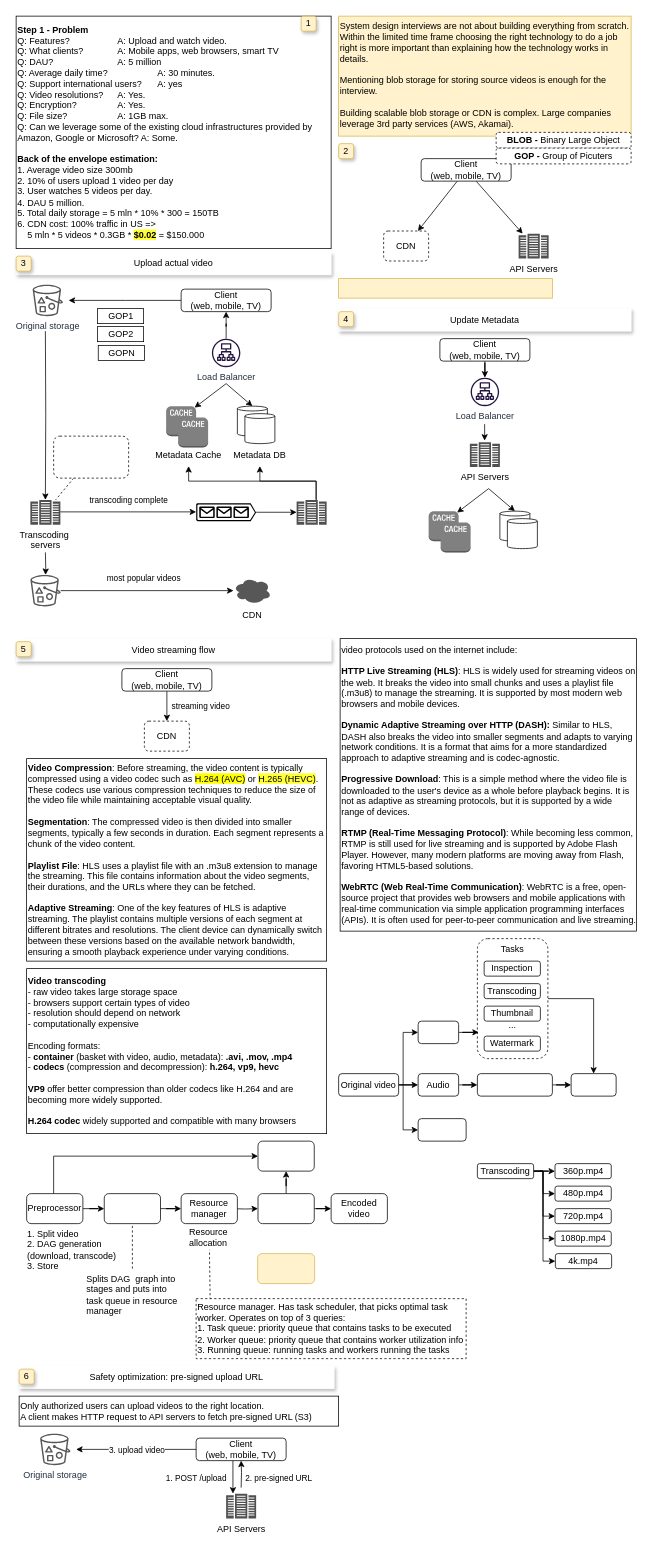
Image size: 650x1547. Some labels were removed from this diagram. The centre of each missing label's shape, as x and y in pixels:
Airflow?: (x=286, y=1268)
Assemble: (x=593, y=1084)
Audio encoding: (x=514, y=1084)
Better to draw diagram for each use case separately.: (x=445, y=288)
Completion handler: (x=311, y=512)
Completion queue: (x=226, y=512)
Covert a video to other formats (MPEG, HLS): (x=91, y=456)
DAG scheduler: (x=132, y=1208)
Metadata: (x=441, y=1129)
Task workers: (x=285, y=1208)
Temporary storage: (x=285, y=1155)
Transcoded storage: (x=45, y=590)
Video: (x=438, y=1032)
